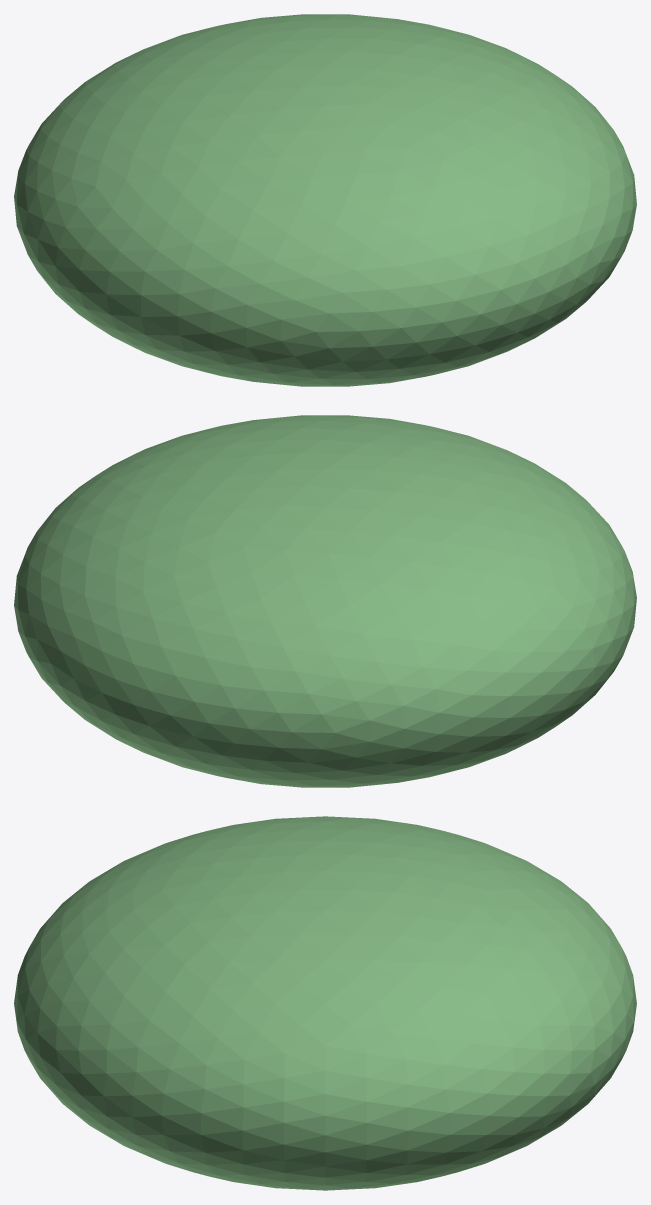
File: hill.glb
3 views of the same model, one above another, from view 1: azimuth 30°, elevation 25°; view 2: azimuth 150°, elevation 25°; view 3: azimuth 270°, elevation 25° (orthographic).
Parts seen in each view (by area): view 1: hill_0_0; view 2: hill_0_0; view 3: hill_0_0.
Boxes of the visible parts, <box> form: hill_0_0: <box>14,14,636,386</box>; hill_0_0: <box>14,415,636,787</box>; hill_0_0: <box>14,816,636,1190</box>.
Size of the model in its own units: 6.2 by 2.91 by 6.18.
